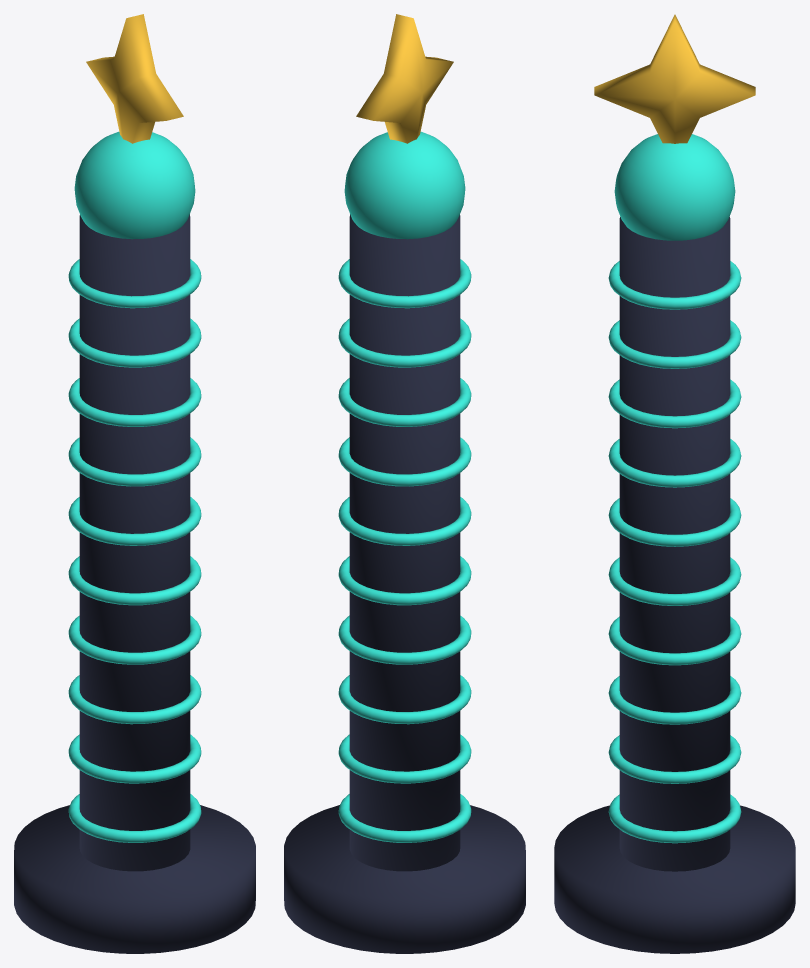
The model's file is SM_HypeTower.fbx.
3 views of the same model, side by side, from view 1: azimuth 30°, elevation 25°; view 2: azimuth 150°, elevation 25°; view 3: azimuth 270°, elevation 25° (orthographic).
Parts seen in each view (by area): view 1: SM_HypeTower; view 2: SM_HypeTower; view 3: SM_HypeTower.
Part boxes in pixels (x1,y1,x2,y2): SM_HypeTower: [14, 14, 255, 953]; SM_HypeTower: [284, 14, 525, 953]; SM_HypeTower: [554, 14, 795, 953].
Size of what is drawn, in the model's own units: 2.4 by 9.7 by 2.4.
Materials: 1 (1 with a texture image).
